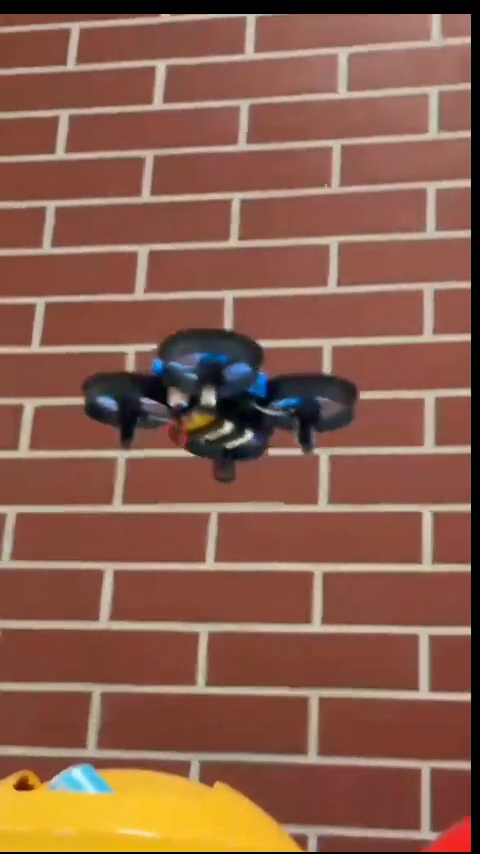drone: (83, 328, 365, 486)
